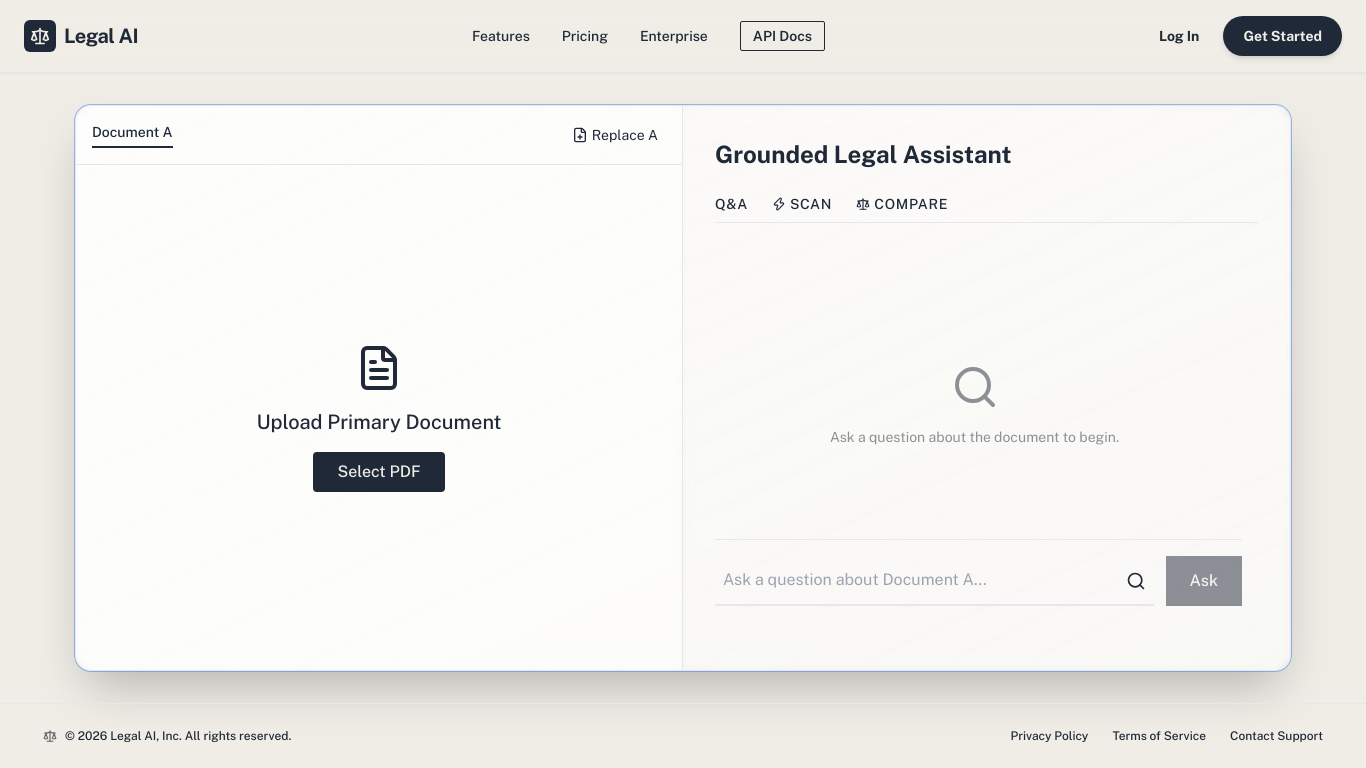
Scenario: Legal AI App › opens modals for navigation items
The width and height of the screenshot is (1366, 768).
// Open Pricing modal
Click the button "Pricing": (585, 36) x1=562 y1=26 x2=608 y2=46
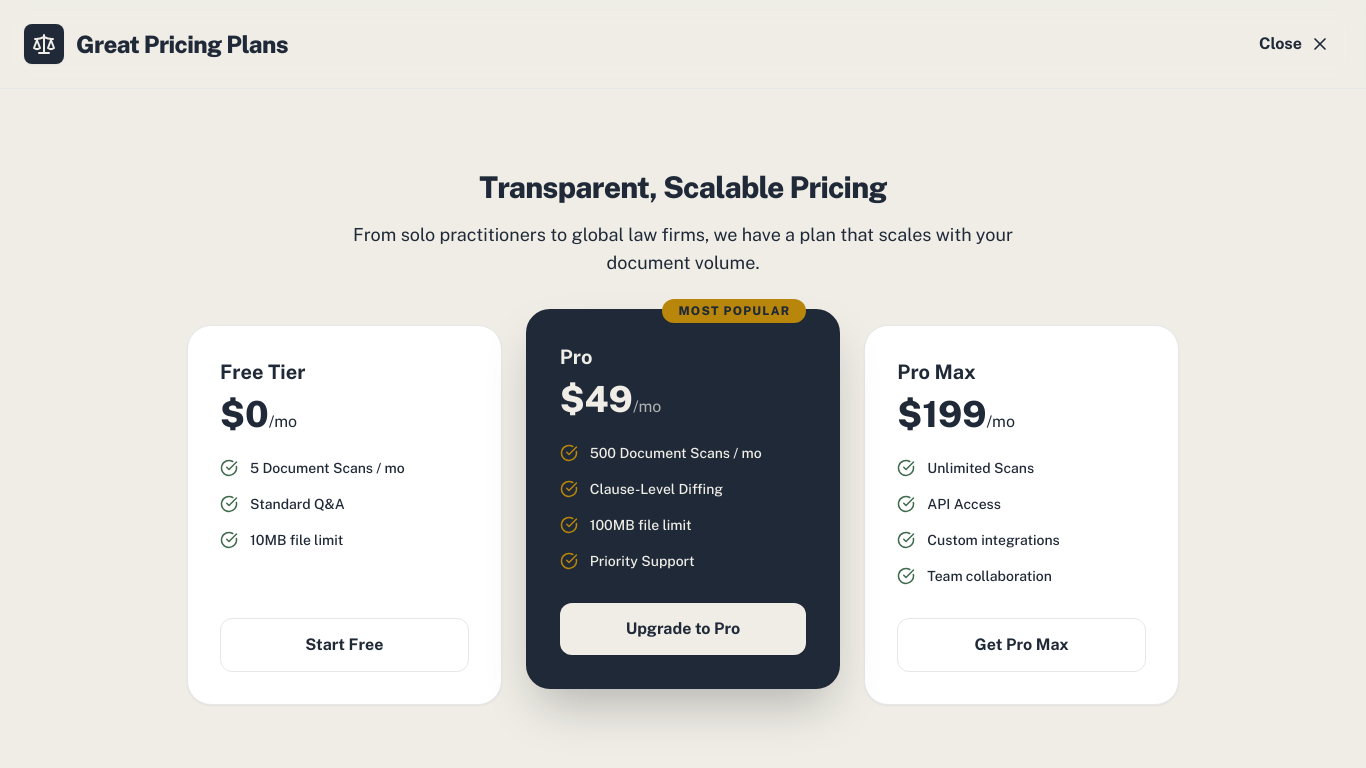
Check: the dialog is shown
Check: the heading "Great Pricing Plans" is shown, box x1=76 y1=28 x2=288 y2=60
// Close modal
Click the button with aria-label "Close modal": (1294, 44) x1=1247 y1=20 x2=1342 y2=68
Wait 600 ms
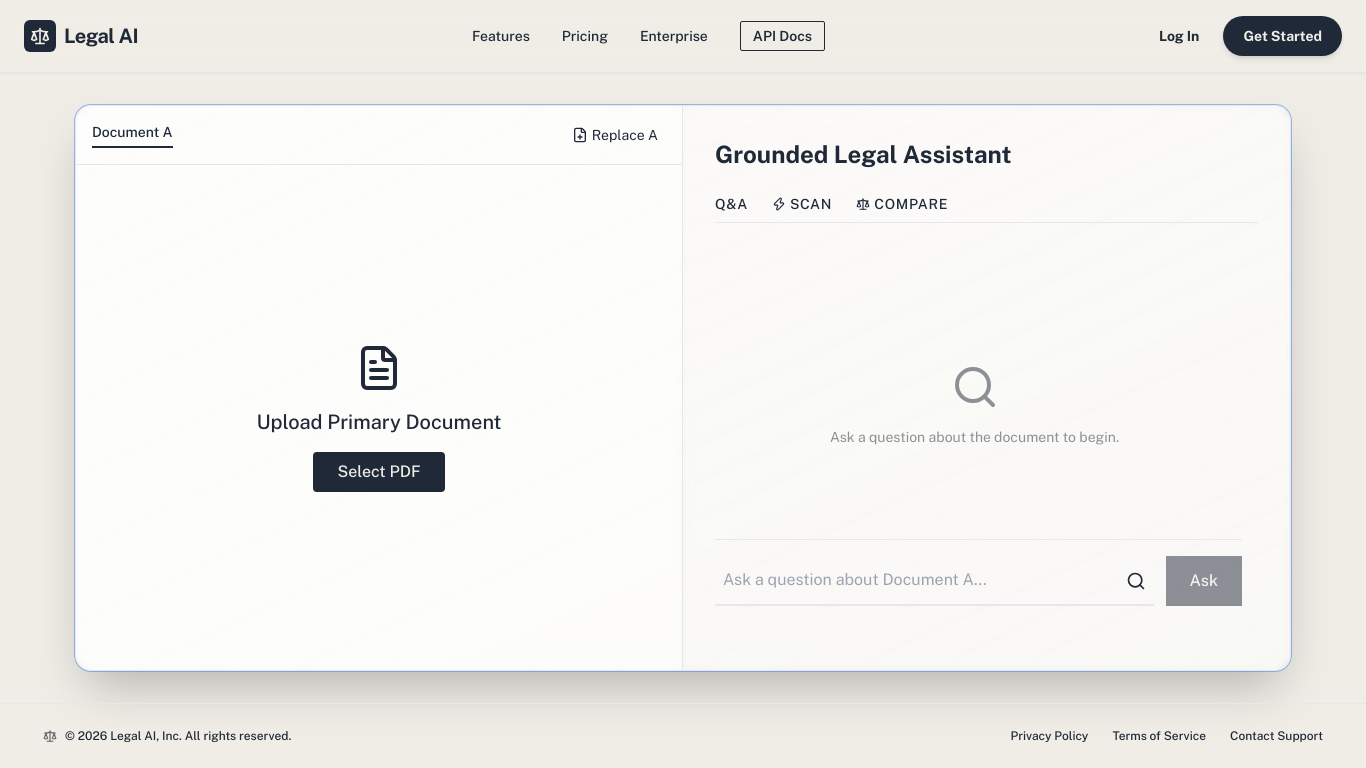
Check: the dialog is gone
